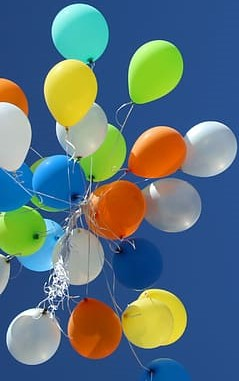Balloon: (43, 59, 98, 126), (128, 40, 184, 105), (51, 3, 109, 65), (141, 178, 202, 234), (68, 298, 123, 360), (182, 121, 239, 179), (6, 307, 62, 365), (88, 181, 145, 237), (128, 126, 186, 179), (52, 227, 104, 285), (122, 296, 174, 349), (34, 157, 86, 209), (113, 239, 163, 290), (1, 102, 32, 173), (1, 207, 45, 256)
